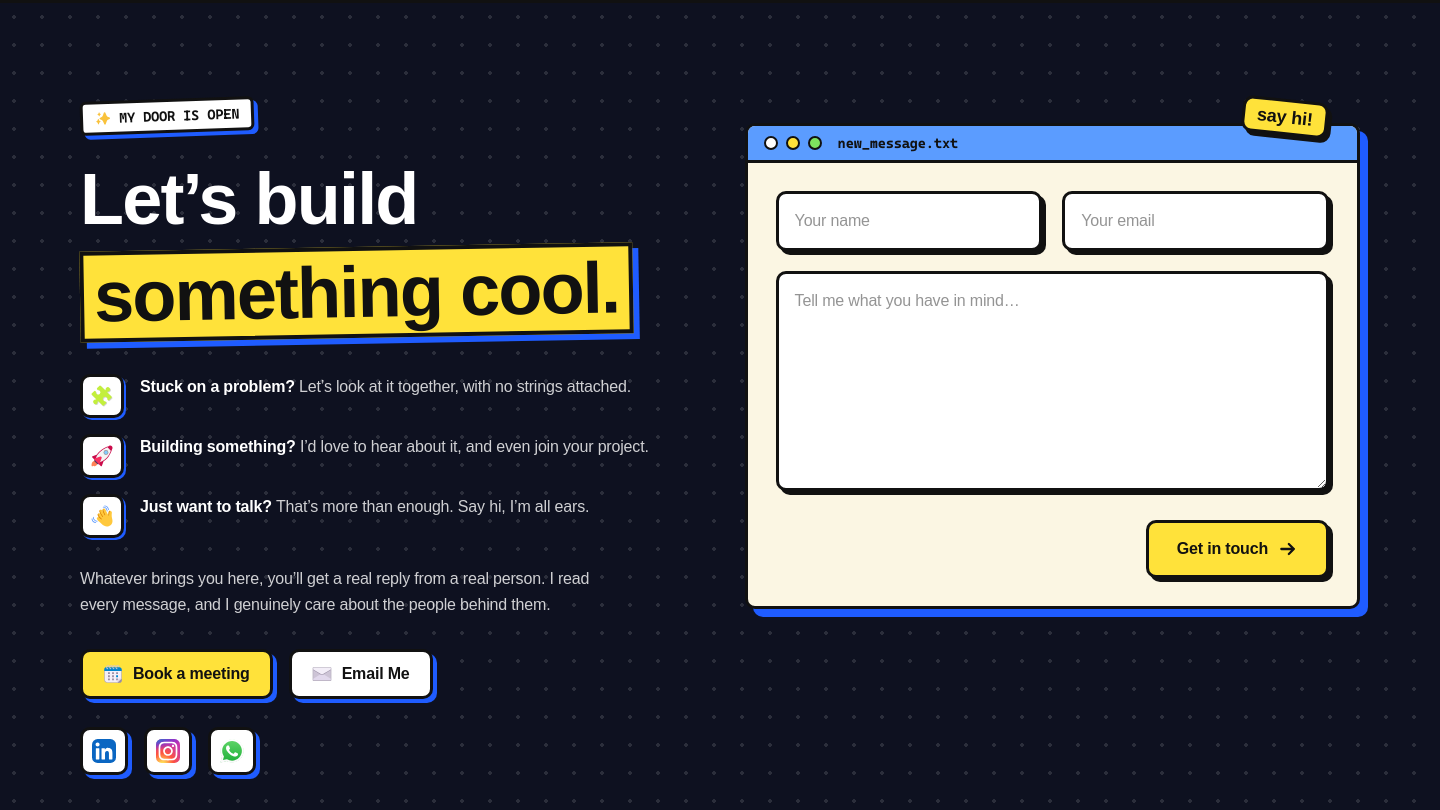
sends a valid request and confirms it
Type "  Ada " into the field labelled "Your name".
click(909, 221); type("  Ada ")  # box [776,191,1042,251]
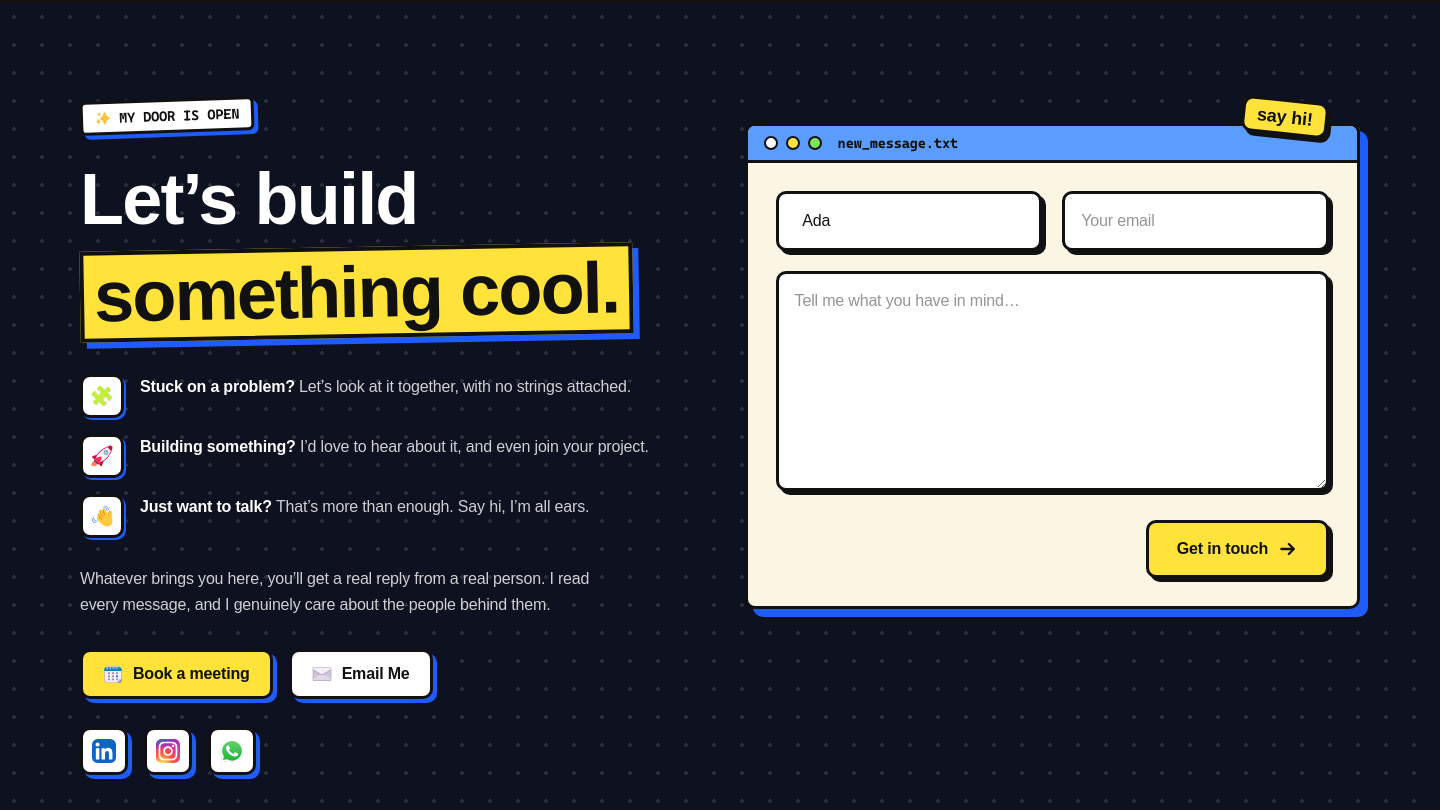
Type "ada@example.com" into the field labelled "Your email".
click(1196, 221); type("ada@example.com")  # box [1062,191,1329,251]
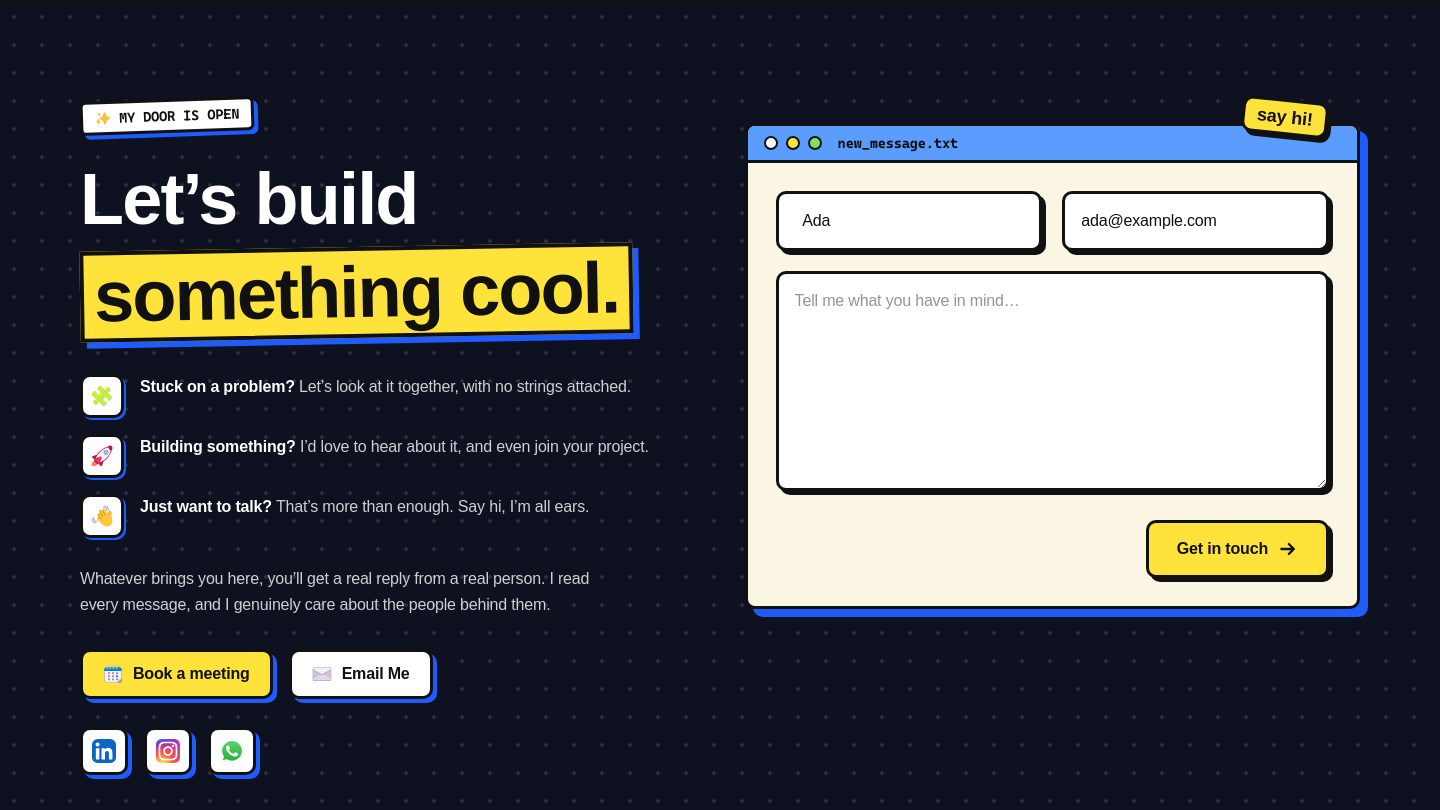
Type "We need to split a monolith into services." into the text box named "Your message".
click(1052, 381); type("We need to split a monolith into services.")  # box [776,271,1329,491]
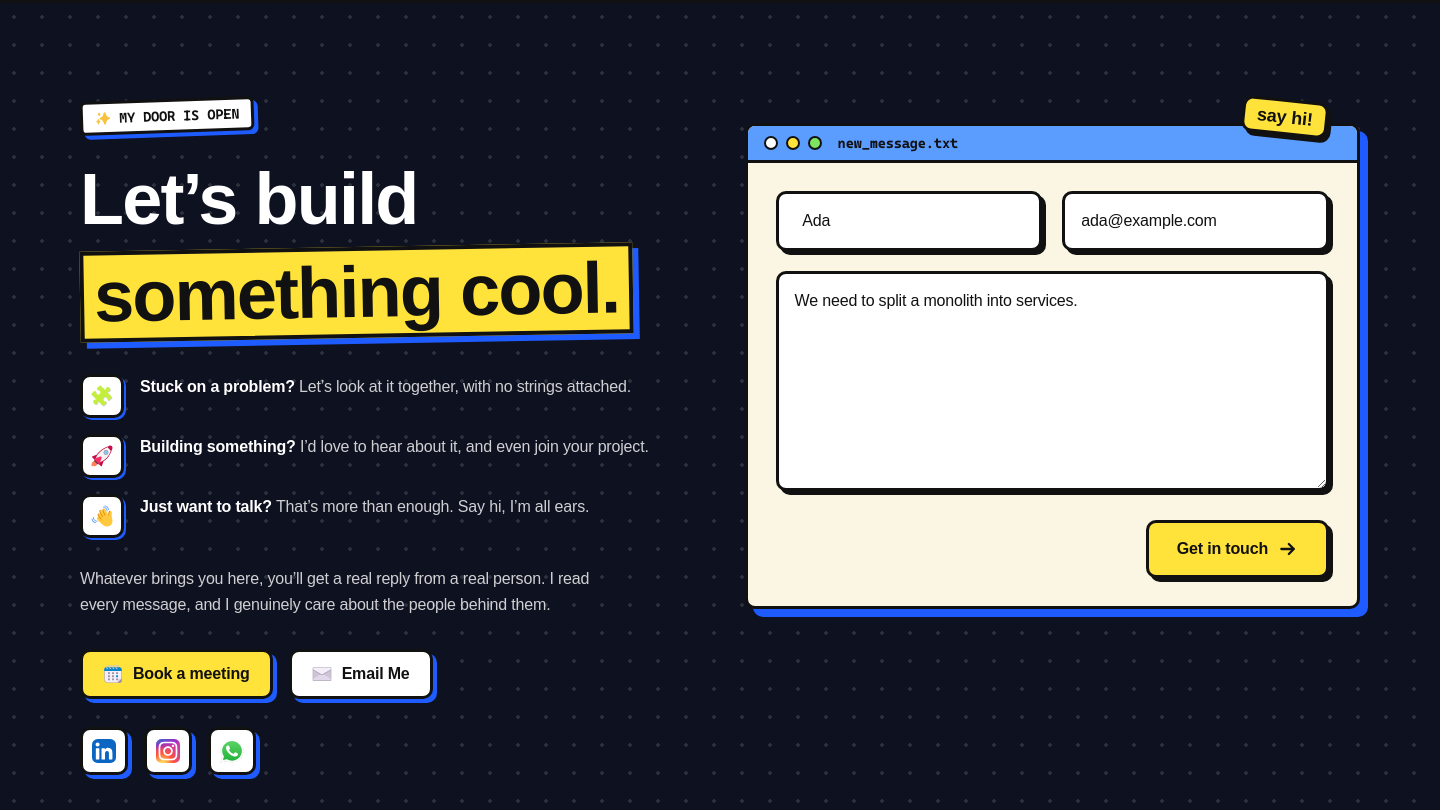
Click the button "Get in touch".
click(1237, 549)  # box [1146,520,1329,578]
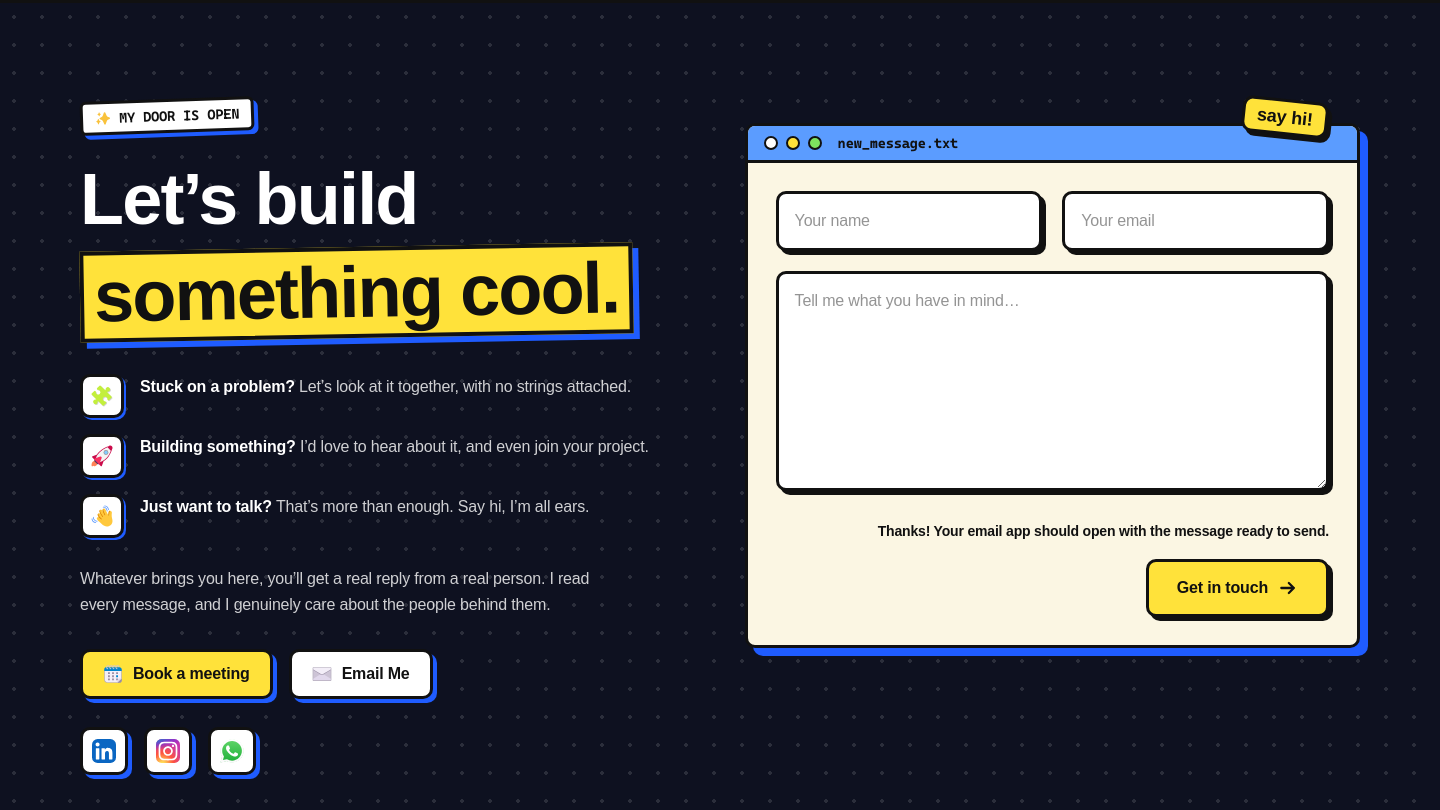
Now the message shows "Your email app should open", box [878,523,1329,539]
Now the field labelled "Your name" is empty, box [776,191,1042,251]
